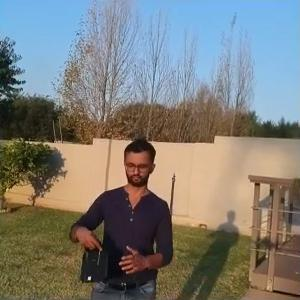follow: (59, 132, 175, 298)
